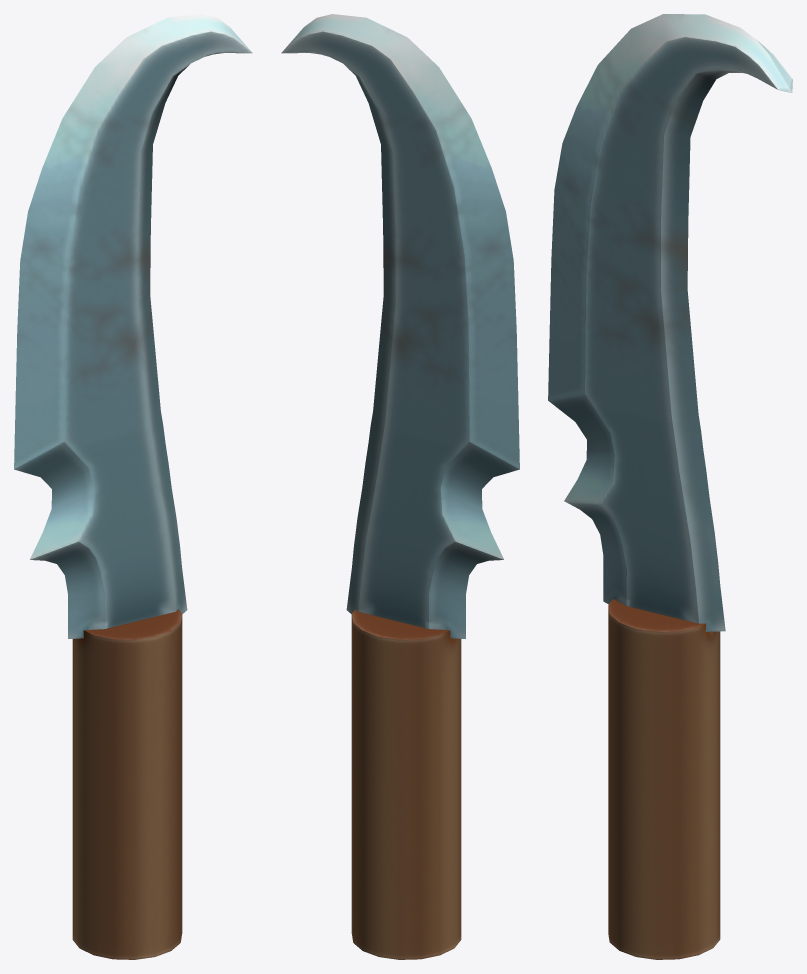
Rendered from SM_Knife.fbx.
3 views of the same model, side by side, from view 1: azimuth 30°, elevation 25°; view 2: azimuth 150°, elevation 25°; view 3: azimuth 330°, elevation 25° (orthographic). The views are drawn at different scales.
Parts seen in each view (by area): view 1: SM_Knife_LOD0; view 2: SM_Knife_LOD0; view 3: SM_Knife_LOD0.
Part boxes in pixels (x1,y1,x2,y2): SM_Knife_LOD0: (14,14,252,959); SM_Knife_LOD0: (281,14,519,959); SM_Knife_LOD0: (548,14,792,959).
Bounding box in the file's own units: 18.71 × 7.51 × 68.23.
1 material, 1 textured.
